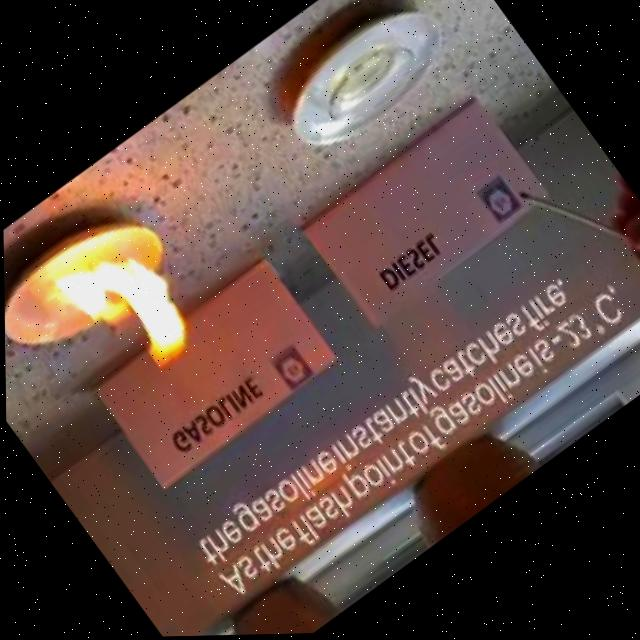Fire: (44, 223, 214, 403)
